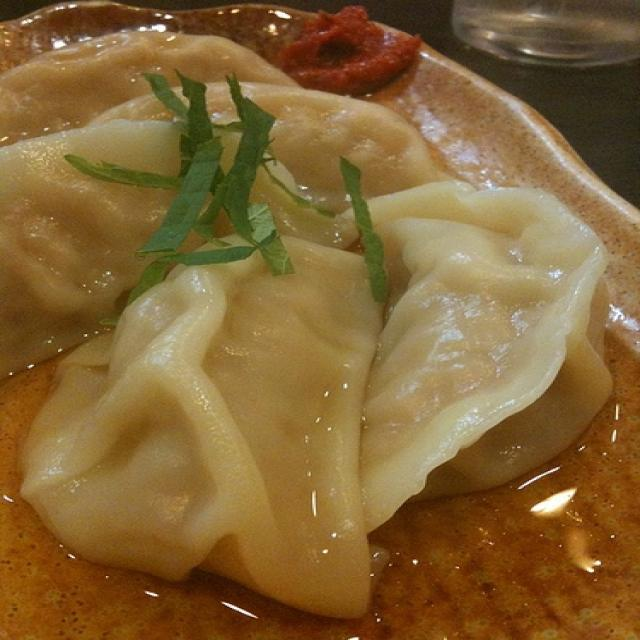带馅早点: (17, 5, 609, 599)
